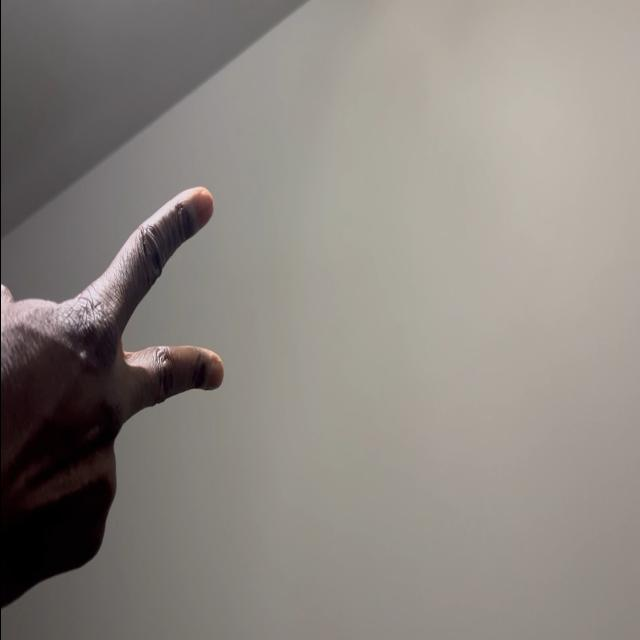Scissors: (0, 187, 224, 605)
